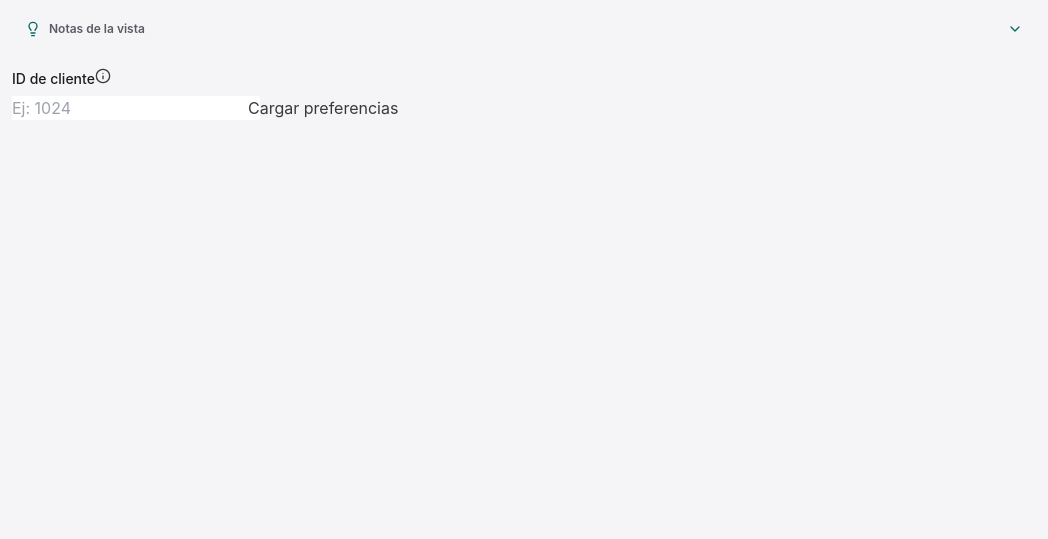
it: Preferencias de notificación de un cliente › son una tabla con cabeceras y el buscador y los filtros recortan las filas
The width and height of the screenshot is (1048, 539).
Type "1024" into the field labelled "ID de cliente" at x=136, y=108, box [12,96,260,120]
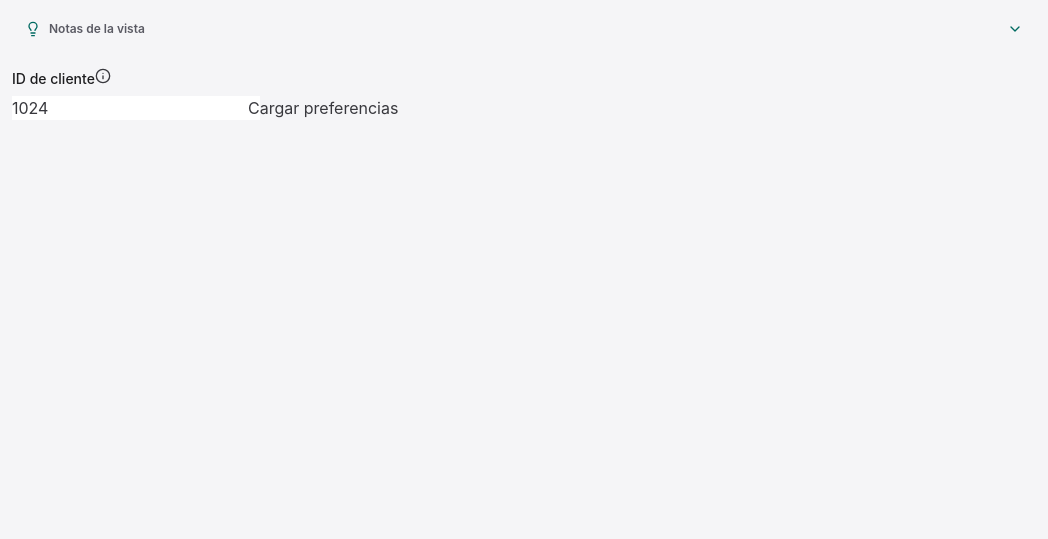
Click the button "Cargar preferencias" at x=323, y=108, box [248,96,398,120]
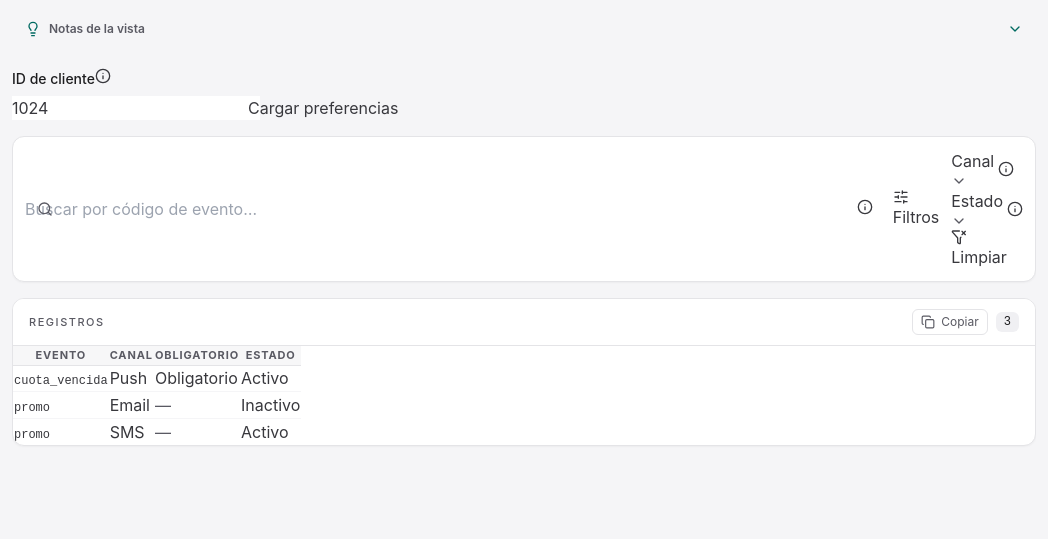
Now the table is shown, box [13,346,301,444]
Now the column heading "Evento" is shown, box [13,346,109,364]
Now the column heading "Canal" is shown, box [109,346,154,364]
Type "promo" into the field labelled "Buscar por código de evento…" at x=149, y=209, box [25,197,273,221]
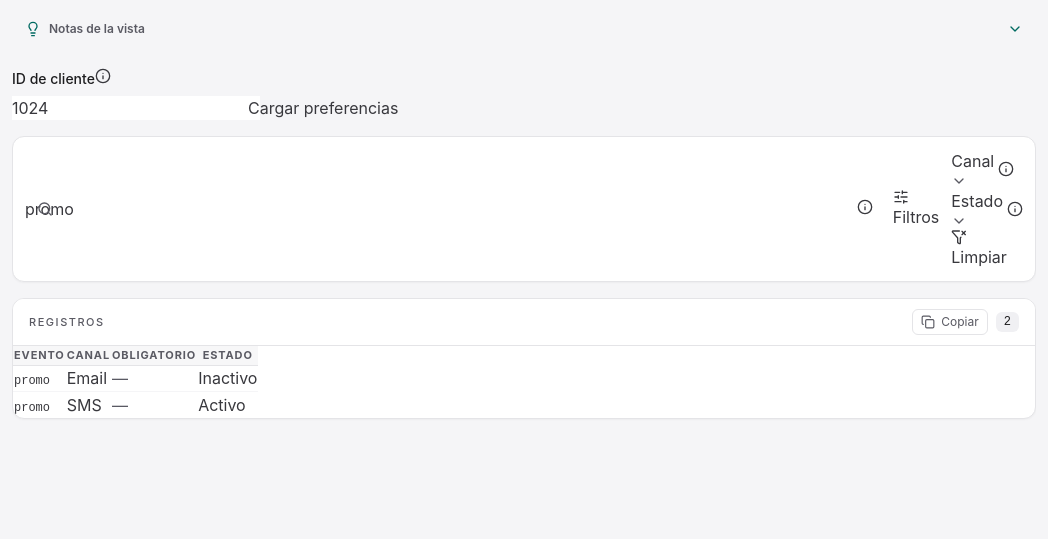
Now the number of rows is 3, box [13,346,258,364]; [13,364,258,391]; [13,391,258,418]
Replace the text in the field named "código de evento" with "zzz" at x=149, y=209, box [25,197,273,221]
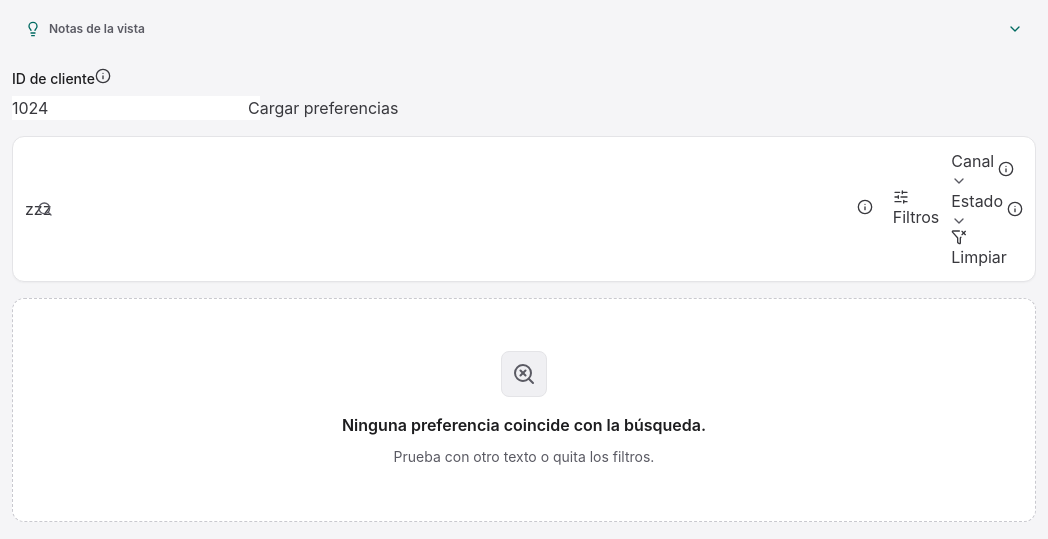
Now the heading "Ninguna preferencia coincide con la búsqueda." is shown, box [342,413,706,437]
